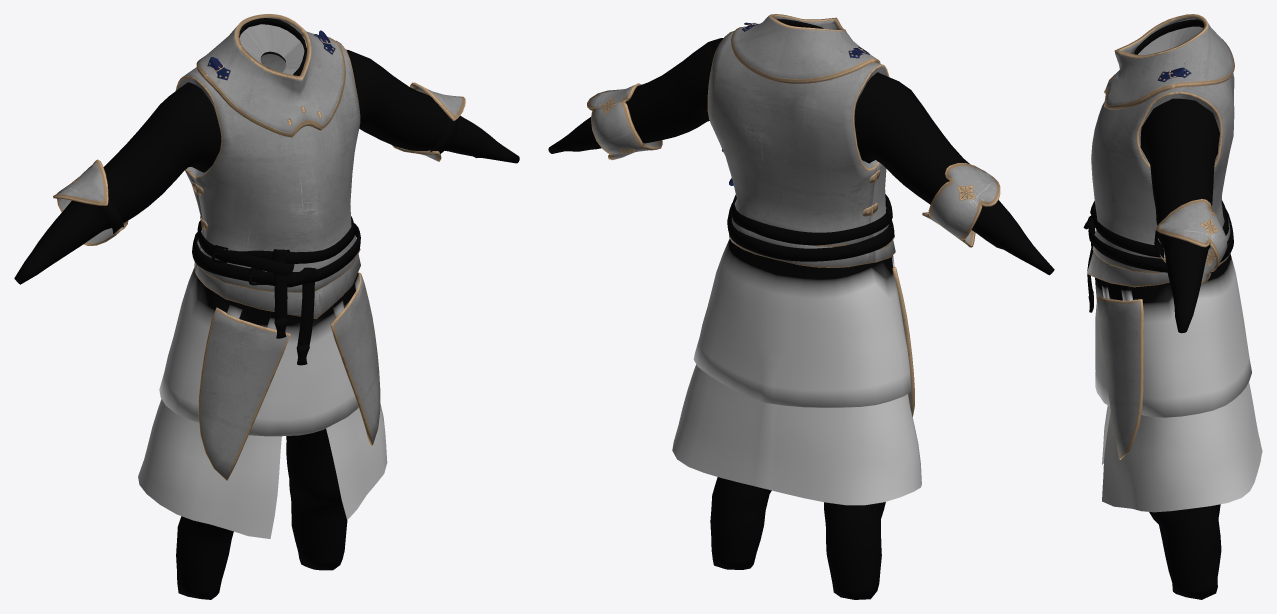
File: swan_knight_armor_1b_t3_slim.fbx
The picture shows the model from 3 angles, left to right: view 1: azimuth 30°, elevation 25°; view 2: azimuth 150°, elevation 25°; view 3: azimuth 270°, elevation 25°; orthographic projection. The views are drawn at different scales.
Visible parts, largest first — view 1: swan_knight_armor_1b_t3_slim.0, swan_knight_armor_1b_t3_slim.1; view 2: swan_knight_armor_1b_t3_slim.0, swan_knight_armor_1b_t3_slim.1; view 3: swan_knight_armor_1b_t3_slim.0, swan_knight_armor_1b_t3_slim.1.
Boxes of the visible parts, box(x1,y1,x2,y2) form: swan_knight_armor_1b_t3_slim.0: box(14, 18, 519, 599); swan_knight_armor_1b_t3_slim.1: box(53, 14, 465, 480); swan_knight_armor_1b_t3_slim.0: box(548, 19, 1054, 599); swan_knight_armor_1b_t3_slim.1: box(587, 14, 1000, 416); swan_knight_armor_1b_t3_slim.0: box(1083, 19, 1262, 599); swan_knight_armor_1b_t3_slim.1: box(1087, 14, 1234, 459).
Size of the model in its own units: 1.3 by 0.4125 by 1.37.
